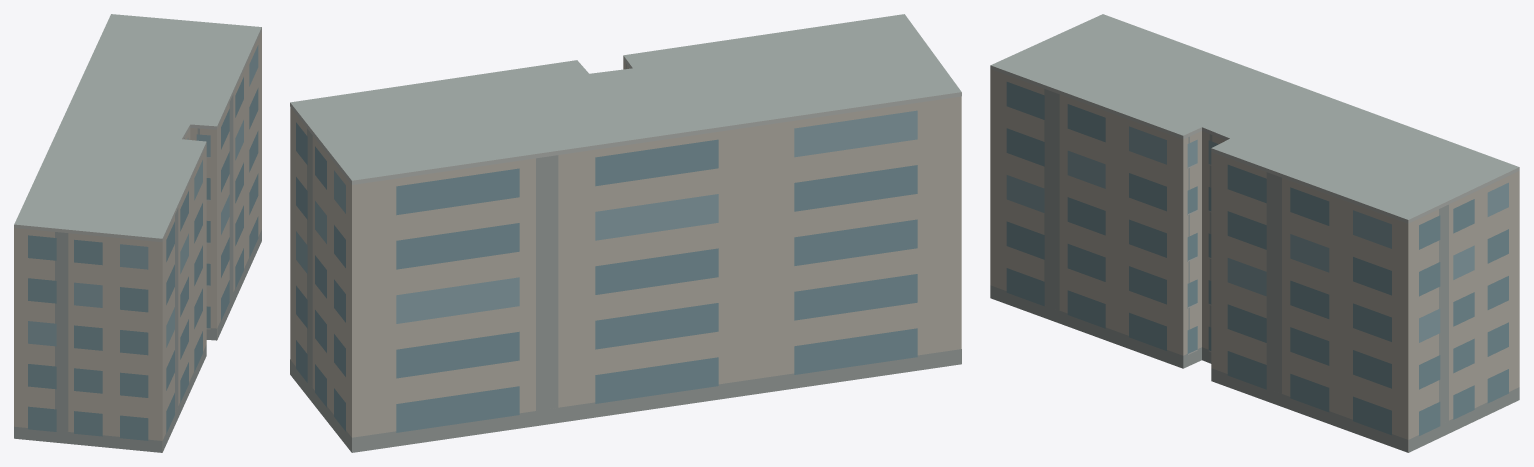
Rendered from survey-upis-32844558.glb.
The picture shows the model from 3 angles, left to right: view 1: azimuth 30°, elevation 25°; view 2: azimuth 150°, elevation 25°; view 3: azimuth 270°, elevation 25°; orthographic projection. The views are drawn at different scales.
Visible parts, largest first — view 1: survey-upis-32844558.tmp; view 2: survey-upis-32844558.tmp; view 3: survey-upis-32844558.tmp.
Part boxes in pixels (box(x1,y1,x2,y2)): survey-upis-32844558.tmp: box(14, 14, 261, 452); survey-upis-32844558.tmp: box(290, 14, 961, 452); survey-upis-32844558.tmp: box(990, 14, 1519, 452).
Size of the model in its own units: 28.93 by 15.25 by 31.4.
